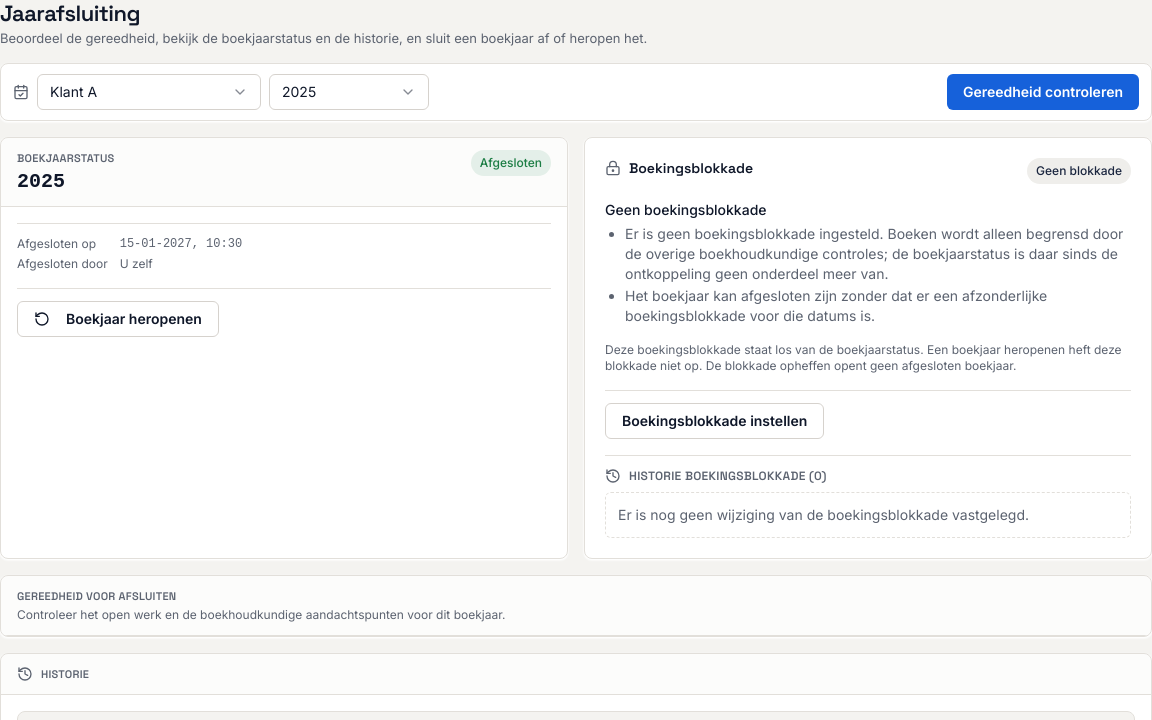
Test case: Na een geslaagde handeling wordt alles ververst › 7. een geslaagde heropening toont Heropend, de reden en de nieuwe gebeurtenis
Click the button with test id "jaar-heropenen". click: (118, 319)
box: [17,301,219,337]
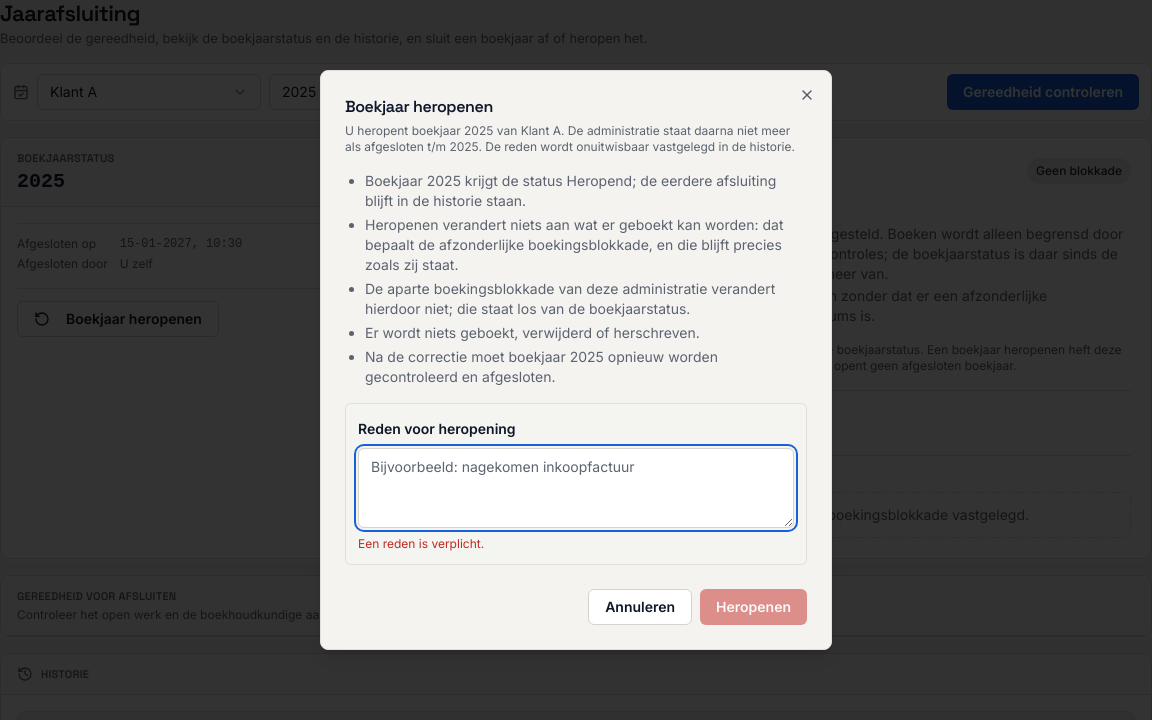
Type "Nagekomen inkoopfactuur" into the text box with test id "jaar-heropenen-reden". click: (576, 488)
box: [358,448,794,528]
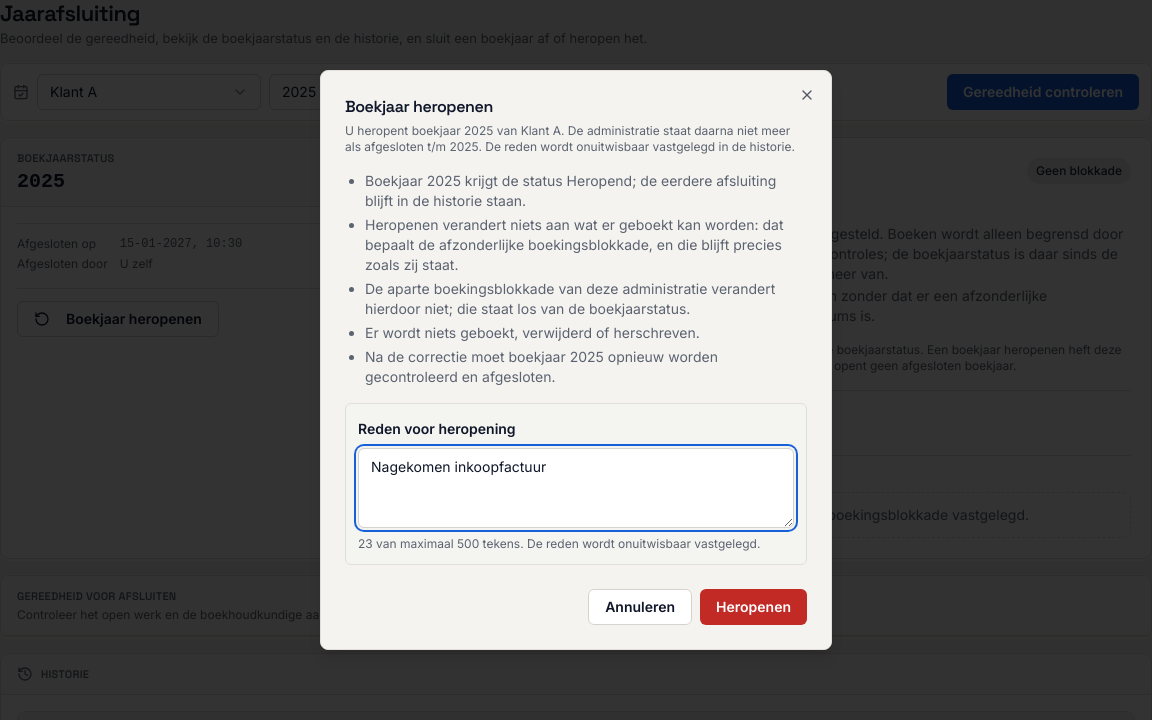
Click the button with test id "jaar-heropenen-bevestigen". click: (754, 607)
box: [700,589,807,625]
(page scrolled)
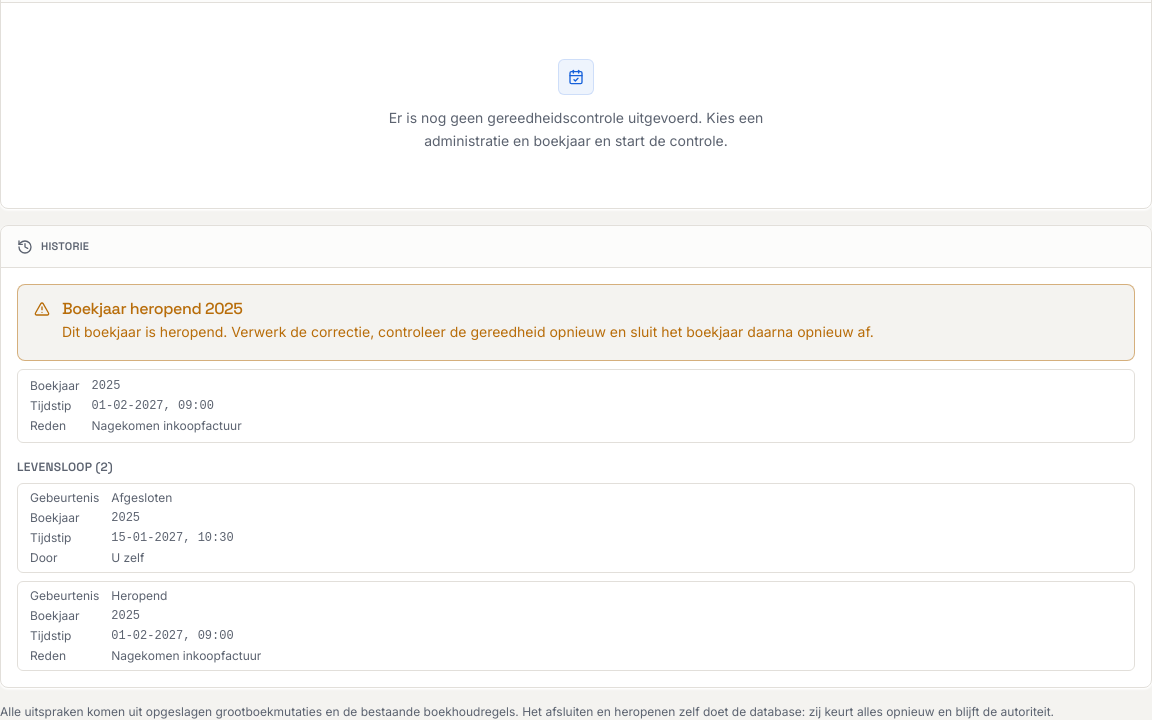
expect the element with test id "jaar-heropeningsbewijs" shows "Nagekomen inkoopfactuur": met, box [92,418,242,433]
expect the dialog with test id "jaar-heropenen-dialoog" is gone: met
